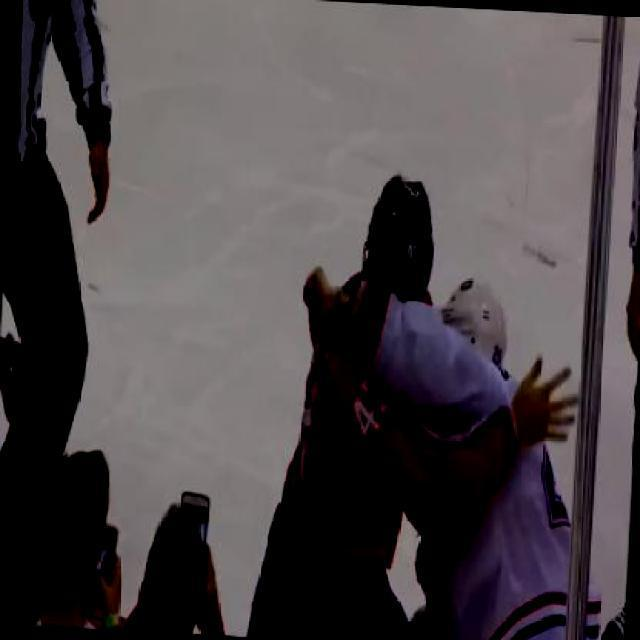fight: (270, 167, 588, 638)
